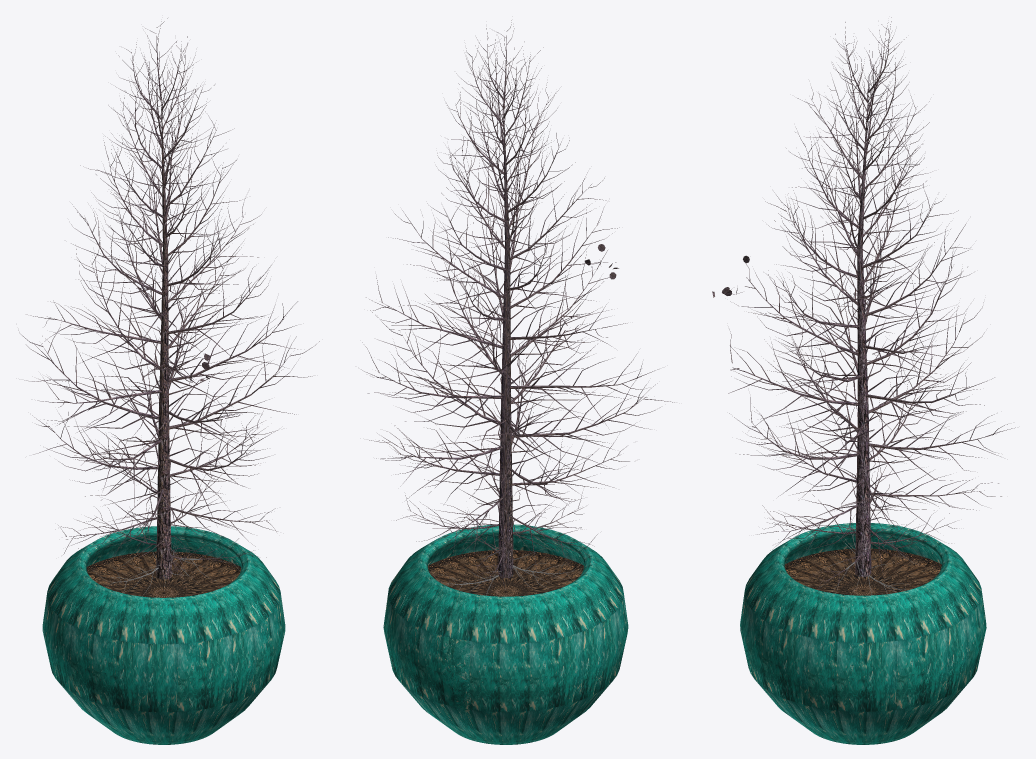
Rendered from Flowerpot.obj.
3 renders of one model, left to right at view 1: azimuth 30°, elevation 25°; view 2: azimuth 150°, elevation 25°; view 3: azimuth 270°, elevation 25°, orthographic.
Parts seen in each view (by area): view 1: Flowerpot:Mesh; view 2: Flowerpot:Mesh; view 3: Flowerpot:Mesh.
Part boxes in pixels (x1,y1,x2,y2): Flowerpot:Mesh: (18, 18, 319, 744); Flowerpot:Mesh: (361, 20, 674, 744); Flowerpot:Mesh: (712, 17, 1015, 744).
Bounding box in the file's own units: 2.49 × 5.8 × 2.3.
6 materials, 5 textured.
